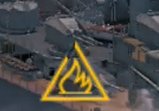1fire: (39, 67, 111, 105)
